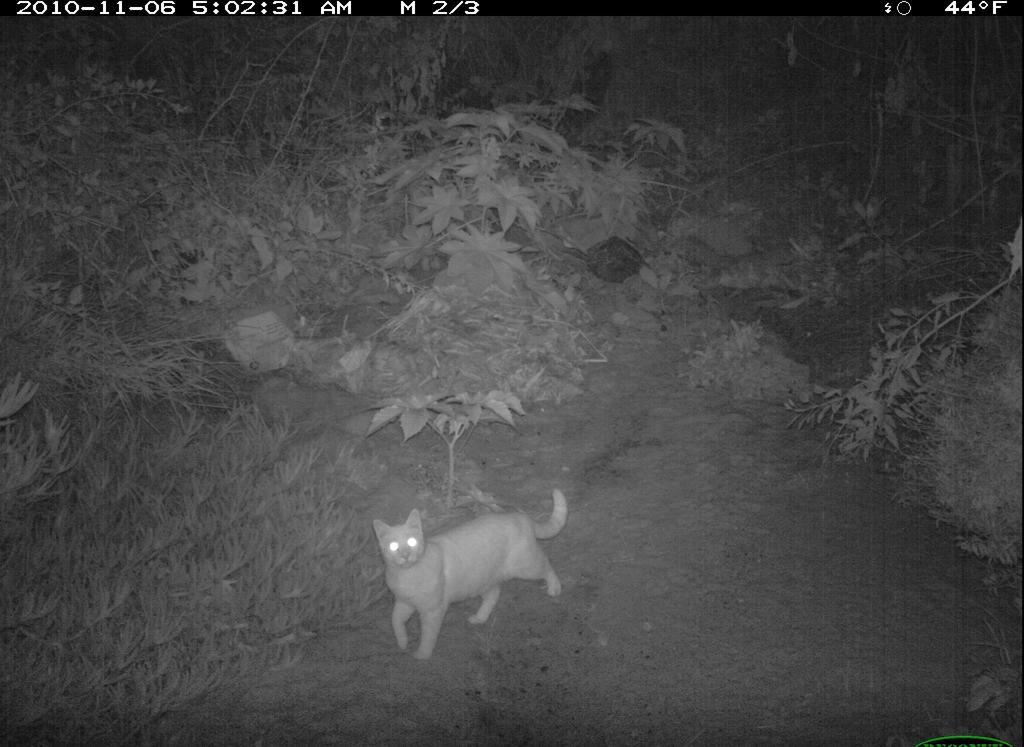cat: (369, 486, 571, 661)
